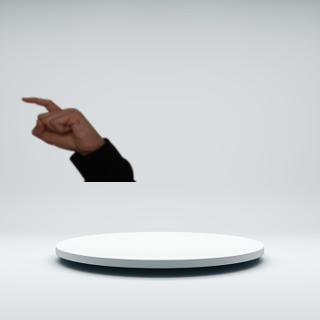WHY: (13, 91, 101, 151)
